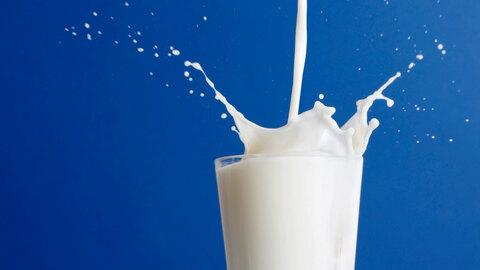produk_susu: (243, 128, 339, 263)
